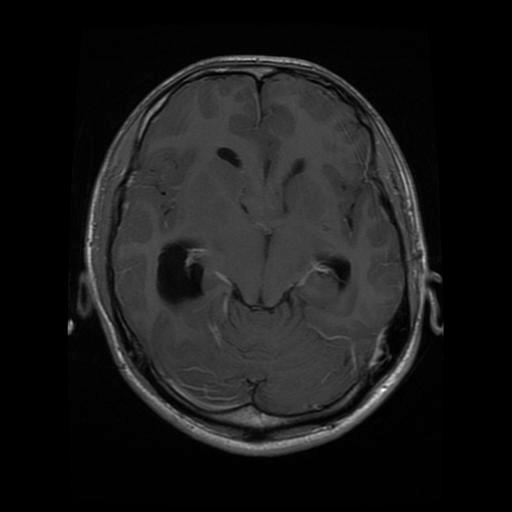Tumour-Glioma: (368, 277, 421, 369)
